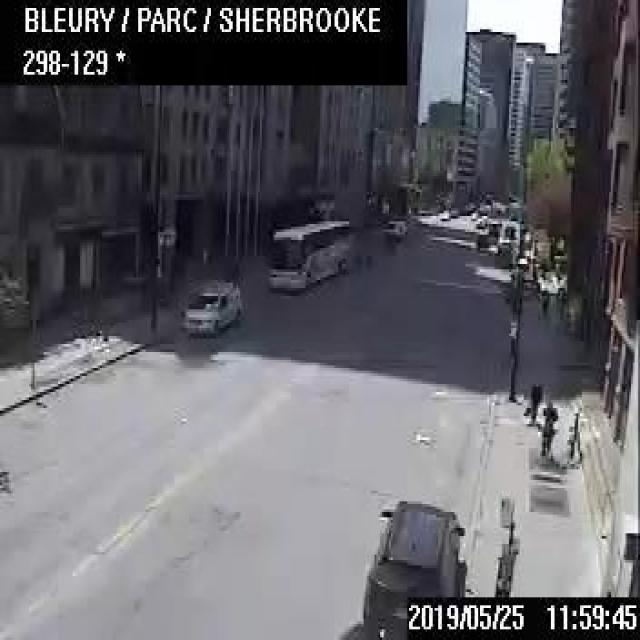bus: (266, 217, 351, 288)
pedestrian: (566, 398, 584, 462), (538, 400, 556, 459), (526, 379, 541, 423)
vehicle: (361, 496, 465, 637), (182, 277, 242, 336), (381, 217, 407, 237)
